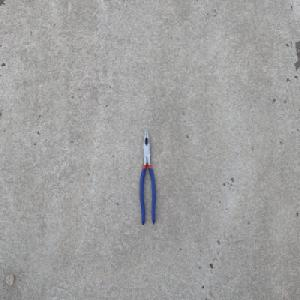Pliers: (139, 127, 156, 226)
